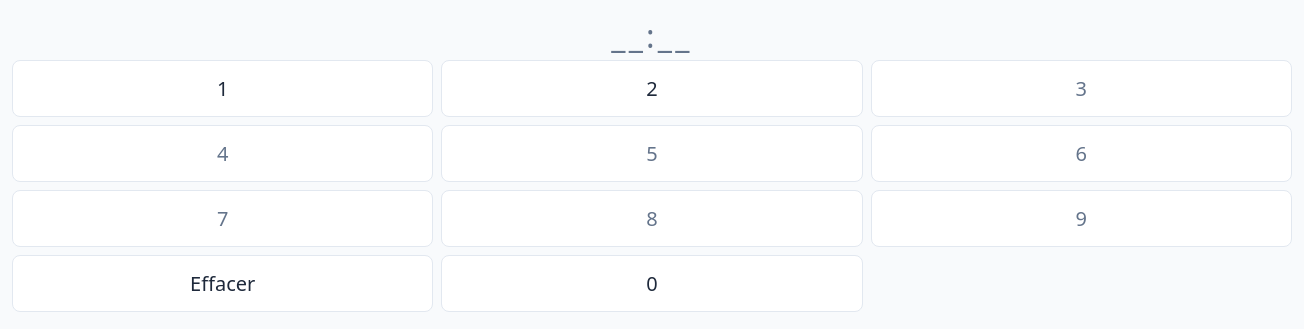
Scenario: RoutineTimeKeypad › désactive les chiffres qui dépasseraient 23 heures
This screenshot has width=1304, height=329.
Expected: the button "3" is disabled, [871,60,1292,117]
Click the button "2". click: (652, 88)
box: [441,60,863,117]
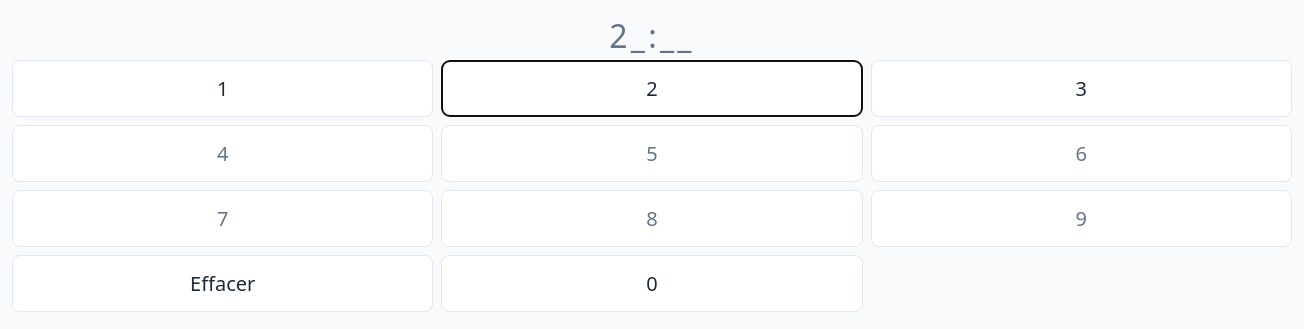
Expected: the button "4" is disabled, [12,125,433,182]
Now the button "3" is enabled, box [871,60,1292,117]
